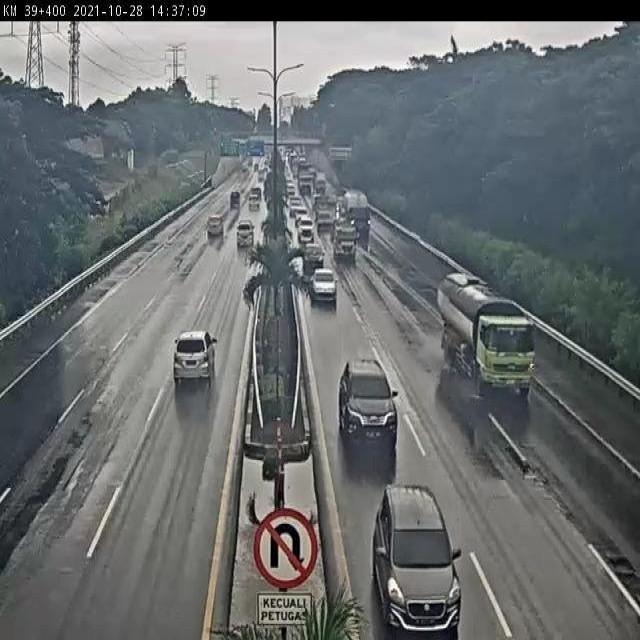car: (364, 475, 463, 617), (338, 353, 400, 458), (169, 321, 221, 396), (307, 266, 339, 306), (298, 236, 323, 265), (205, 208, 227, 240), (233, 220, 255, 252), (295, 212, 316, 243), (226, 190, 244, 213), (317, 207, 333, 230), (246, 190, 261, 210), (248, 185, 261, 203)
small truck: (435, 264, 535, 400), (336, 180, 373, 241)
